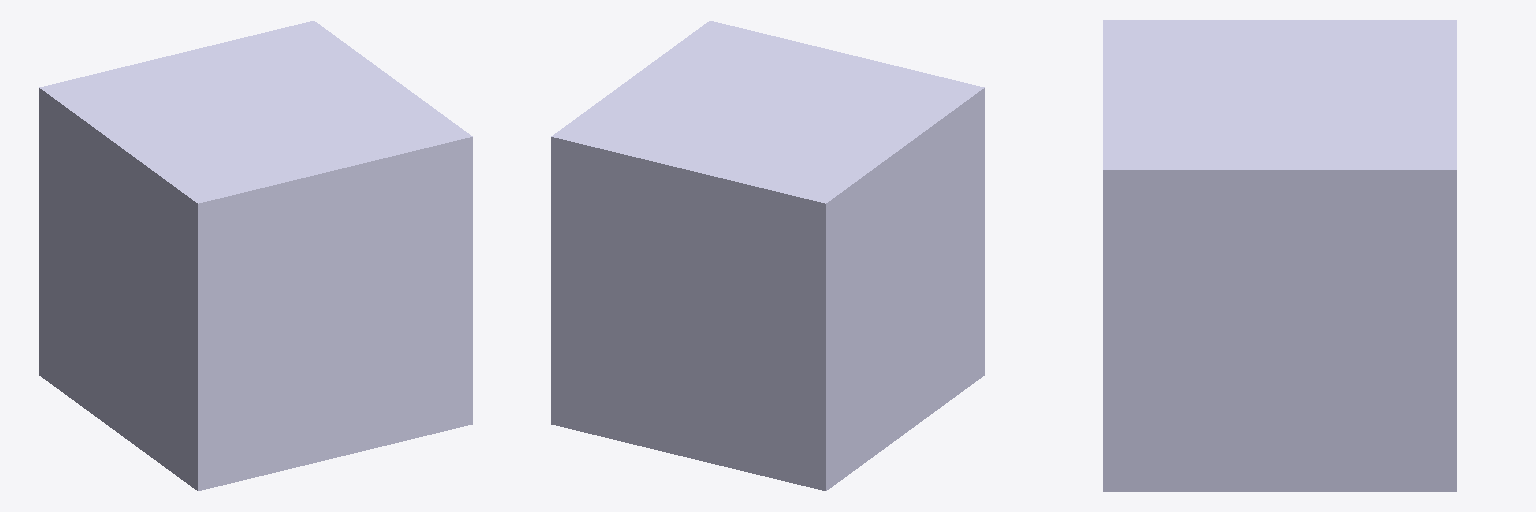
robot.urdf — cube:
<?xml version="0.0" ?>
<robot name="cube">
  <link name="cube">
    <inertial>
      <origin rpy="0 0 0" xyz="0 0 0"/>
       <mass value="0.25"/>
       <inertia ixx="0.01" ixy="0" ixz="0" iyy="0.01" iyz="0" izz="0.01"/>
    </inertial>
    <visual>
      <origin rpy="0 0 0" xyz="0 0 0"/>
      <geometry>
        <box size=".104 .104 .104"/>
      </geometry>
       <material name="off_white">
        <color rgba="0.9 0.9 1 1"/>
      </material>
    </visual>
    <collision>
      <origin rpy="0 0 0" xyz="0 0 0"/>
      <geometry>
	 	     <box size=".104 .104 .104"/>
      </geometry>
    </collision>
    <contact_coefficients kd="1.0" kp="1000.0" mu="0.8"/>
  </link>
</robot>

--- What the picture shows (computed from the rendered views, not written in the file) ---
3 views of the same robot in one strip: view 1: azimuth 30°, elevation 25°; view 2: azimuth 150°, elevation 25°; view 3: azimuth 270°, elevation 25° (orthographic).
Model cube with 1 links and 0 joints (none), rooted at cube, posed every joint at zero.
Visible links, largest first — view 1: cube; view 2: cube; view 3: cube.
Link boxes in pixels (left/top/right/bottom): cube: left=39, top=21, right=472, bottom=490; cube: left=551, top=21, right=984, bottom=490; cube: left=1103, top=20, right=1456, bottom=491.
Bounding box of the posed robot: 0.104 × 0.104 × 0.104 m (x, y, z).
Geometry: primitives only (box / cylinder / sphere), no mesh files.